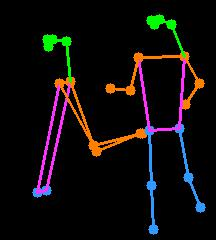normal: (101, 8, 215, 240)
